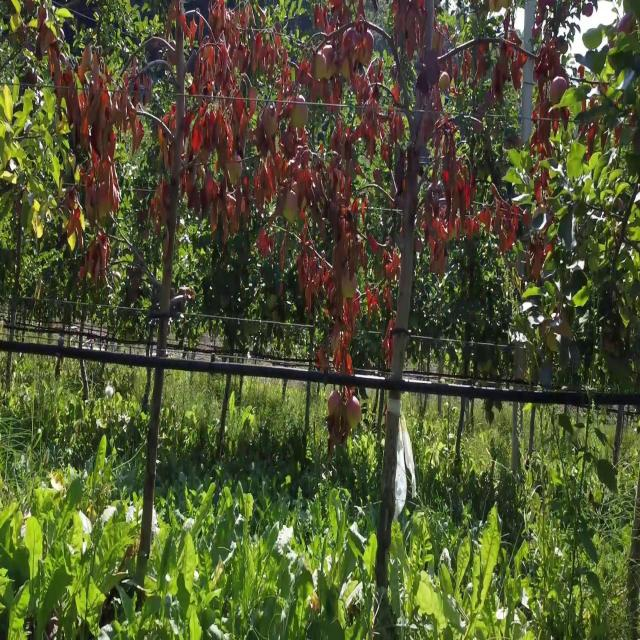apple: (432, 248, 448, 276), (264, 106, 279, 135), (360, 35, 375, 64), (292, 99, 308, 126), (328, 391, 342, 420), (536, 177, 551, 204), (348, 241, 363, 268), (348, 398, 361, 427), (132, 120, 144, 151), (332, 1, 348, 23), (512, 63, 524, 92), (532, 255, 544, 283), (620, 14, 635, 36), (356, 199, 368, 226), (40, 28, 56, 48), (396, 7, 407, 36), (336, 241, 348, 267), (492, 71, 503, 98), (548, 42, 559, 69), (192, 127, 204, 151), (316, 7, 328, 30), (240, 113, 250, 140), (500, 234, 512, 256), (468, 220, 480, 242), (508, 35, 519, 59), (560, 319, 572, 341), (256, 120, 266, 146), (160, 177, 170, 203), (320, 78, 331, 101), (188, 191, 200, 212), (168, 106, 177, 133), (368, 234, 379, 256), (68, 85, 79, 107), (272, 156, 283, 178), (44, 28, 56, 48), (184, 113, 196, 133), (408, 35, 418, 59), (392, 120, 404, 140), (344, 383, 356, 402), (84, 49, 95, 69), (396, 7, 407, 27), (200, 149, 211, 169), (324, 49, 335, 68), (553, 85, 563, 105), (52, 58, 63, 76), (312, 78, 321, 100), (500, 63, 509, 84), (480, 213, 492, 228), (480, 362, 492, 377), (36, 42, 44, 64), (104, 63, 112, 85), (500, 44, 511, 59), (492, 220, 503, 235), (40, 7, 48, 27), (552, 113, 560, 133), (64, 71, 75, 85), (436, 127, 443, 149), (588, 127, 597, 144), (268, 135, 276, 153), (584, 7, 595, 20), (204, 135, 211, 155), (361, 248, 368, 268), (201, 106, 208, 126), (164, 184, 171, 204), (468, 184, 476, 201), (468, 184, 476, 201), (480, 42, 489, 57), (616, 127, 622, 148), (560, 78, 569, 92), (492, 0, 501, 14), (188, 177, 196, 192), (480, 63, 488, 78), (328, 21, 336, 36), (564, 106, 571, 123), (80, 63, 86, 82), (180, 14, 188, 28), (28, 71, 36, 85), (444, 170, 451, 185), (464, 184, 470, 201), (28, 0, 35, 14), (172, 7, 179, 20), (488, 92, 494, 107), (604, 341, 614, 350), (56, 78, 64, 89), (532, 28, 540, 39), (540, 7, 546, 21), (52, 49, 60, 59), (172, 115, 176, 133), (588, 149, 592, 162)
